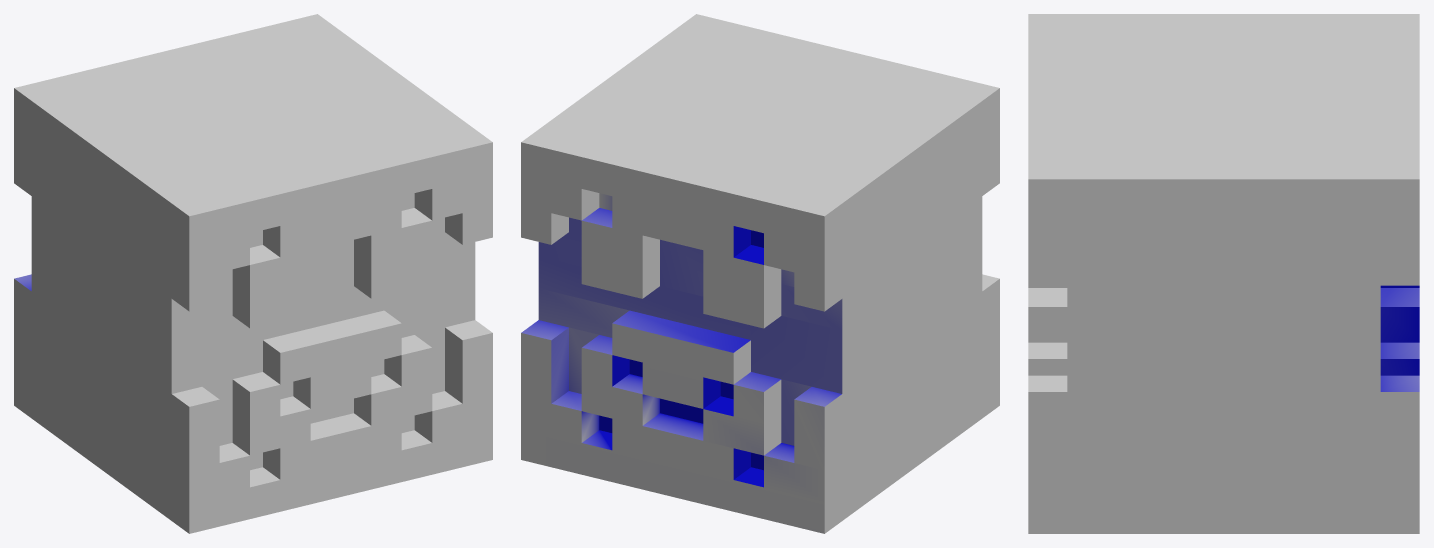
File: Tile_Puzzle_2.fbx
3 views of the same model, side by side, from view 1: azimuth 30°, elevation 25°; view 2: azimuth 150°, elevation 25°; view 3: azimuth 270°, elevation 25° (orthographic). The views are drawn at different scales.
Parts seen in each view (by area): view 1: Tile_Puzzle_2; view 2: Tile_Puzzle_2; view 3: Tile_Puzzle_2.
Boxes of the visible parts, bbox=[...] form: Tile_Puzzle_2: bbox=[14, 14, 492, 533]; Tile_Puzzle_2: bbox=[521, 14, 999, 533]; Tile_Puzzle_2: bbox=[1028, 14, 1419, 533].
Bounding box in the file's own units: 200 × 200 × 200.
